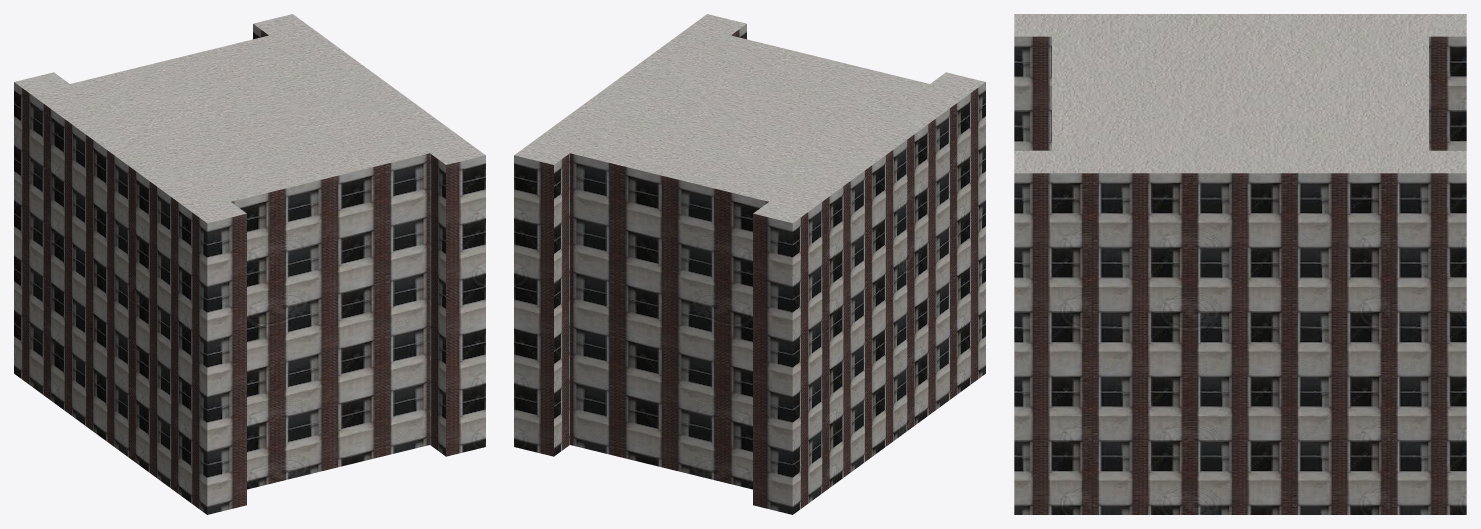
The model's file is building_029.fbx.
The picture shows the model from 3 angles, left to right: view 1: azimuth 30°, elevation 25°; view 2: azimuth 150°, elevation 25°; view 3: azimuth 270°, elevation 25°; orthographic projection. The views are drawn at different scales.
Parts seen in each view (by area): view 1: building_029; view 2: building_029; view 3: building_029.
Boxes of the visible parts, bbox=[...] form: building_029: bbox=[14, 14, 485, 514]; building_029: bbox=[514, 14, 985, 514]; building_029: bbox=[1014, 14, 1466, 514].
Bounding box in the file's own units: 1400 × 1400 × 1680.
